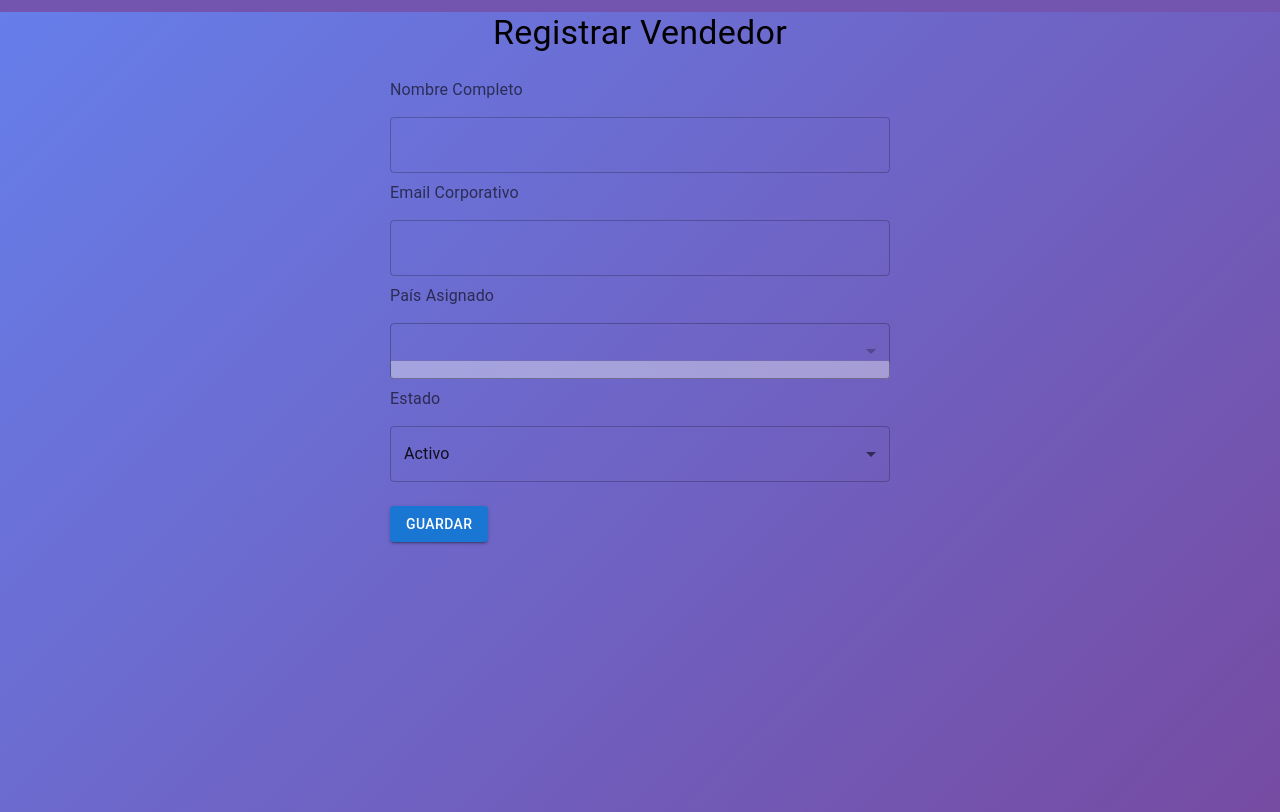
VendedorForm › Validaciones con Yup › valida que nombre solo contenga letras y espacios
Type "Juan123" into the 1st field named "nombre" at (640, 145), box [390,117,890,173]
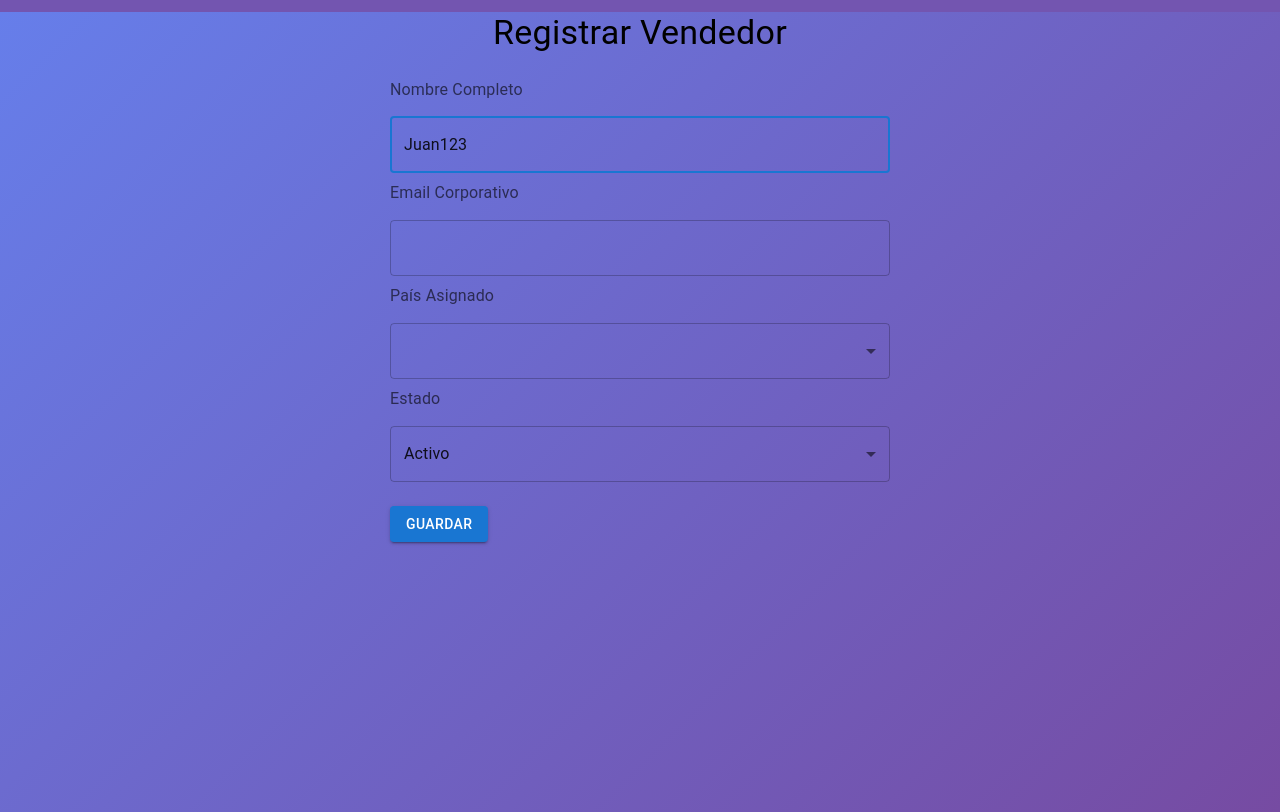
Click the button "Guardar" at (439, 524), box [390,506,488,542]
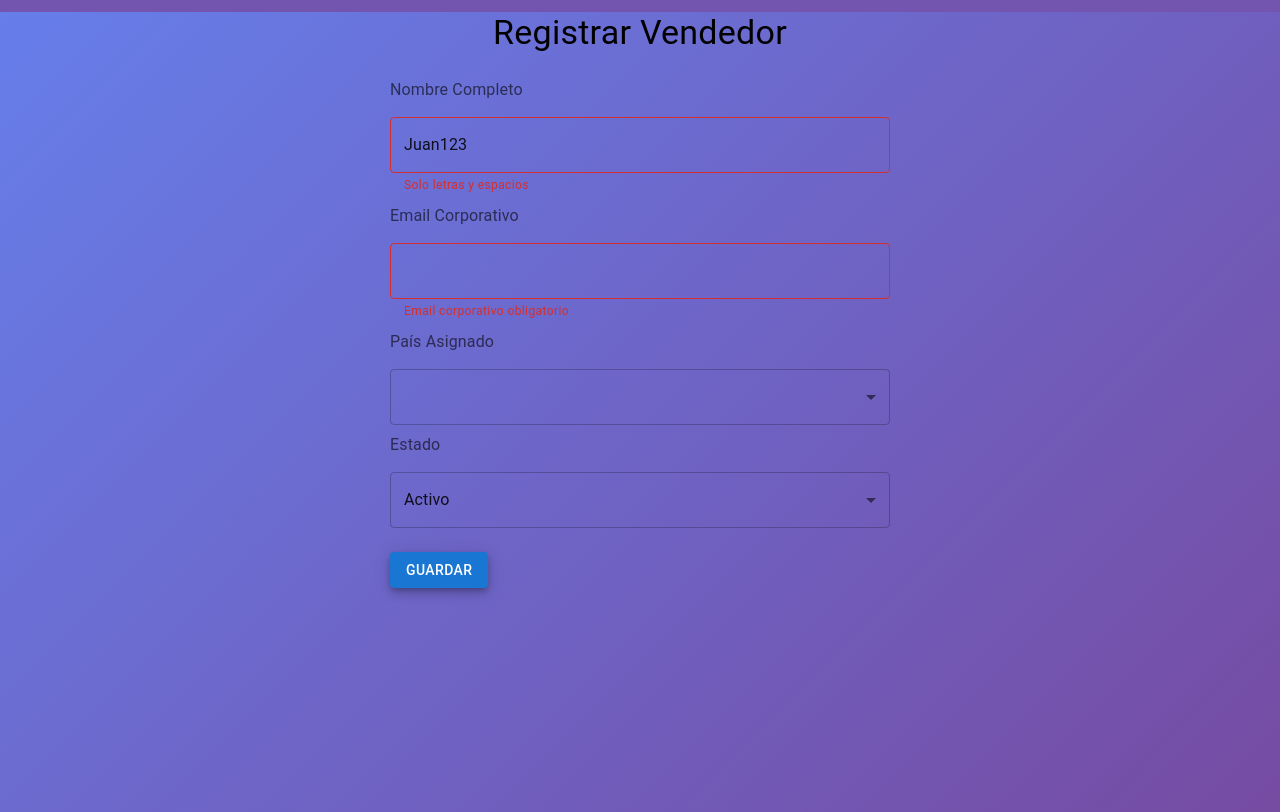
Now the text "Solo letras y espacios" is shown, box [404,178,529,192]
